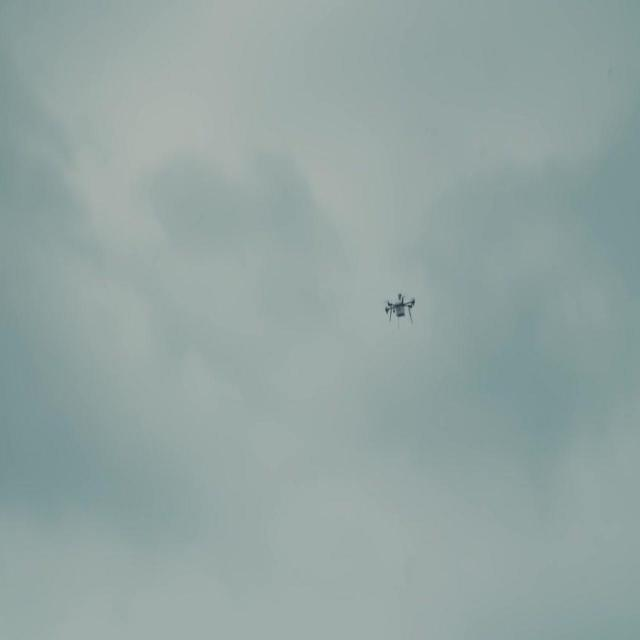UAV: (385, 292, 415, 326)
